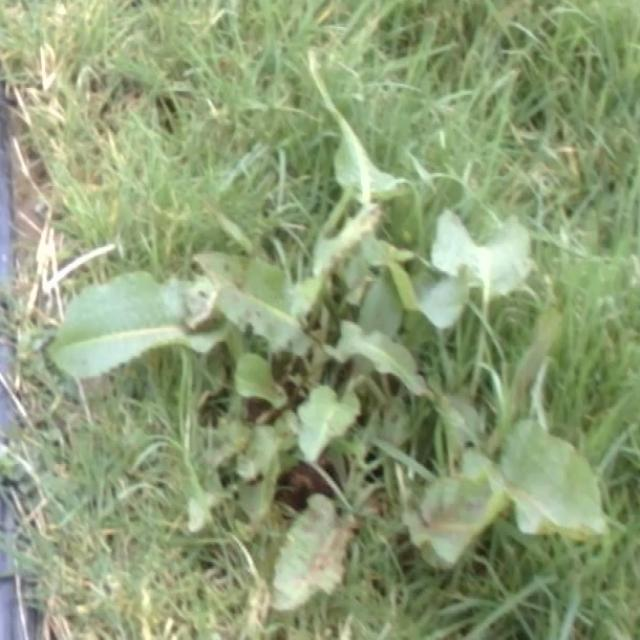organic waste: (66, 88, 609, 592)
